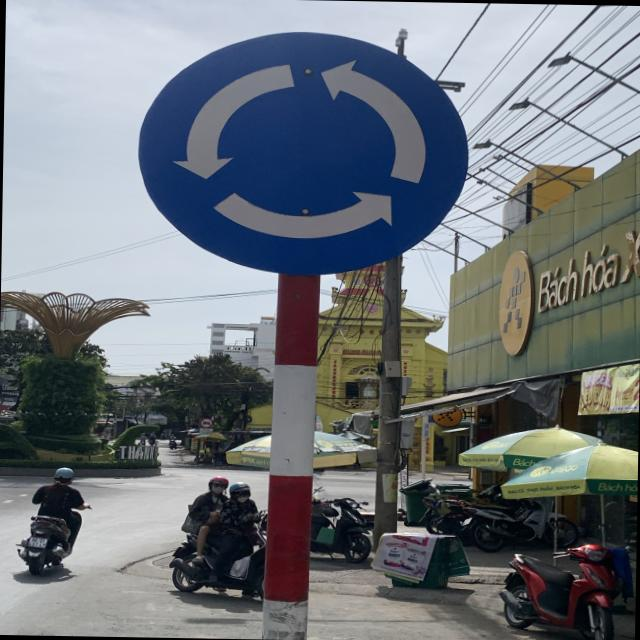Xe_Bus: (138, 28, 472, 278)
